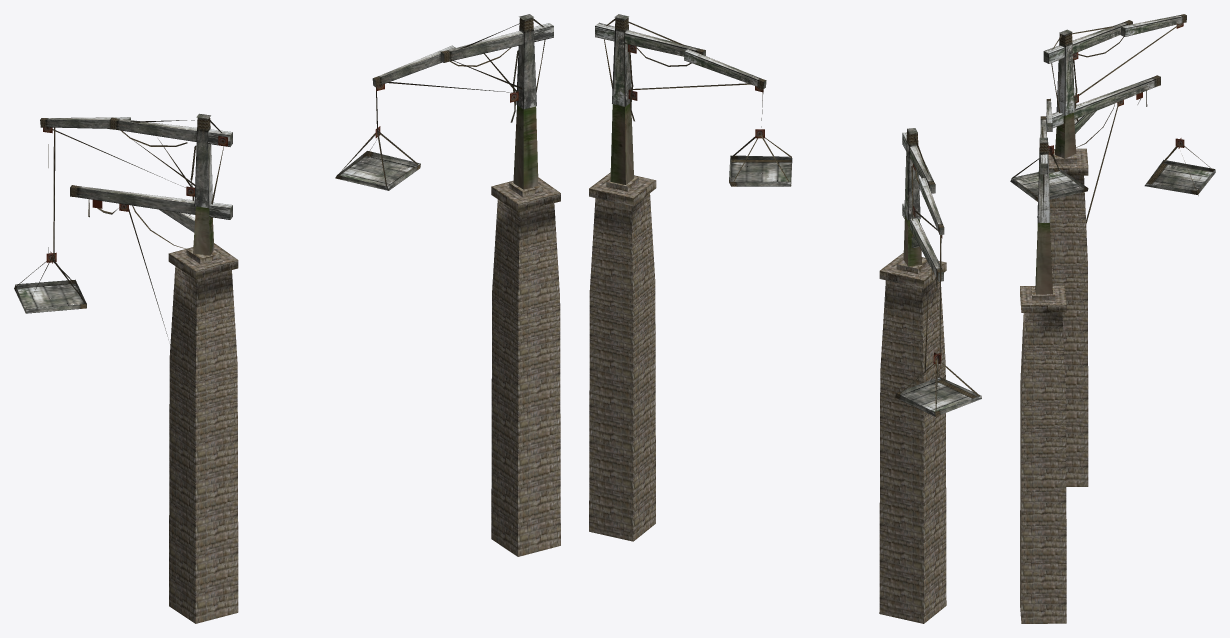
File: 2cranes.fbx
The picture shows the model from 3 angles, left to right: view 1: azimuth 30°, elevation 25°; view 2: azimuth 150°, elevation 25°; view 3: azimuth 270°, elevation 25°; orthographic projection. The views are drawn at different scales.
Visible parts, largest first — view 1: craneA_pillar, craneB_pillar, craneA_arm, craneB_arm_03, craneA_platform, craneB_platform, craneA_post_01, craneA_post_02, craneB_arm_01, craneB_post_02, craneB_post_01, craneB_arm_02; view 2: craneA_pillar, craneB_pillar, craneA_arm, craneA_platform, craneB_platform, craneA_post_01, craneA_post_02, craneB_post_02, craneB_arm_03, craneB_post_01, craneB_arm_01; view 3: craneA_pillar, craneB_pillar, craneB_platform, craneA_platform, craneB_arm_03, craneB_post_02, craneA_post_01, craneB_arm_01, craneA_post_02, craneB_post_01, craneB_arm_02, craneA_arm.
Boxes of the visible parts, box(x1,y1,x2,y2) form: craneA_pillar: box(491, 177, 560, 556); craneB_pillar: box(168, 243, 238, 623); craneA_arm: box(372, 23, 553, 87); craneB_arm_03: box(70, 185, 232, 219); craneA_platform: box(335, 151, 420, 190); craneB_platform: box(14, 279, 86, 313); craneA_post_01: box(513, 105, 538, 189); craneA_post_02: box(516, 17, 536, 109); craneB_arm_01: box(109, 117, 232, 146); craneB_post_02: box(194, 117, 212, 208); craneB_post_01: box(193, 206, 214, 255); craneB_arm_02: box(40, 117, 130, 128); craneA_pillar: box(589, 172, 656, 541); craneB_pillar: box(879, 253, 946, 623); craneA_arm: box(595, 22, 766, 89); craneA_platform: box(729, 155, 792, 186); craneB_platform: box(895, 377, 981, 416); craneA_post_01: box(610, 103, 633, 184); craneA_post_02: box(612, 17, 631, 106); craneB_post_02: box(904, 129, 920, 220); craneB_arm_03: box(902, 203, 943, 281); craneB_post_01: box(903, 216, 922, 266); craneB_arm_01: box(902, 132, 935, 193); craneA_pillar: box(1020, 285, 1066, 623); craneB_pillar: box(1048, 148, 1088, 486); craneB_platform: box(1144, 160, 1215, 194); craneA_platform: box(1010, 168, 1088, 201); craneB_arm_03: box(1046, 75, 1160, 127); craneB_post_02: box(1056, 32, 1074, 115); craneA_post_01: box(1035, 223, 1052, 294); craneB_arm_01: box(1043, 20, 1132, 63); craneA_post_02: box(1037, 139, 1050, 222); craneB_post_01: box(1055, 112, 1076, 158); craneB_arm_02: box(1120, 14, 1186, 36); craneA_arm: box(1040, 98, 1052, 174).
Size of the model in its own units: 8876 by 9659 by 3795.
Materials: 2 (2 with a texture image).
